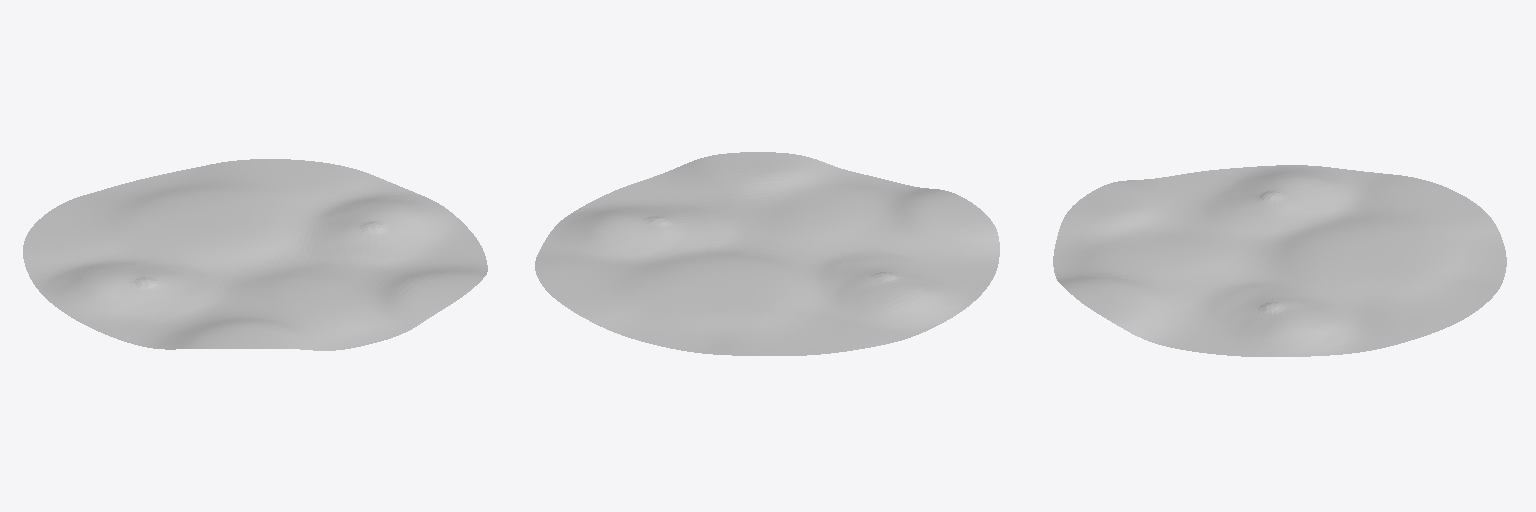
Rendered from bumpyArena3.obj.
The picture shows the model from 3 angles: view 1: azimuth 30°, elevation 25°; view 2: azimuth 150°, elevation 25°; view 3: azimuth 270°, elevation 25°; orthographic projection.
Parts seen in each view (by area): view 1: Plane; view 2: Plane; view 3: Plane.
Part boxes in pixels (x1,y1,x2,y2): Plane: (23, 159, 487, 350); Plane: (535, 152, 999, 355); Plane: (1053, 165, 1506, 356).
Bounding box in the file's own units: 7.03 × 0.2091 × 7.01.